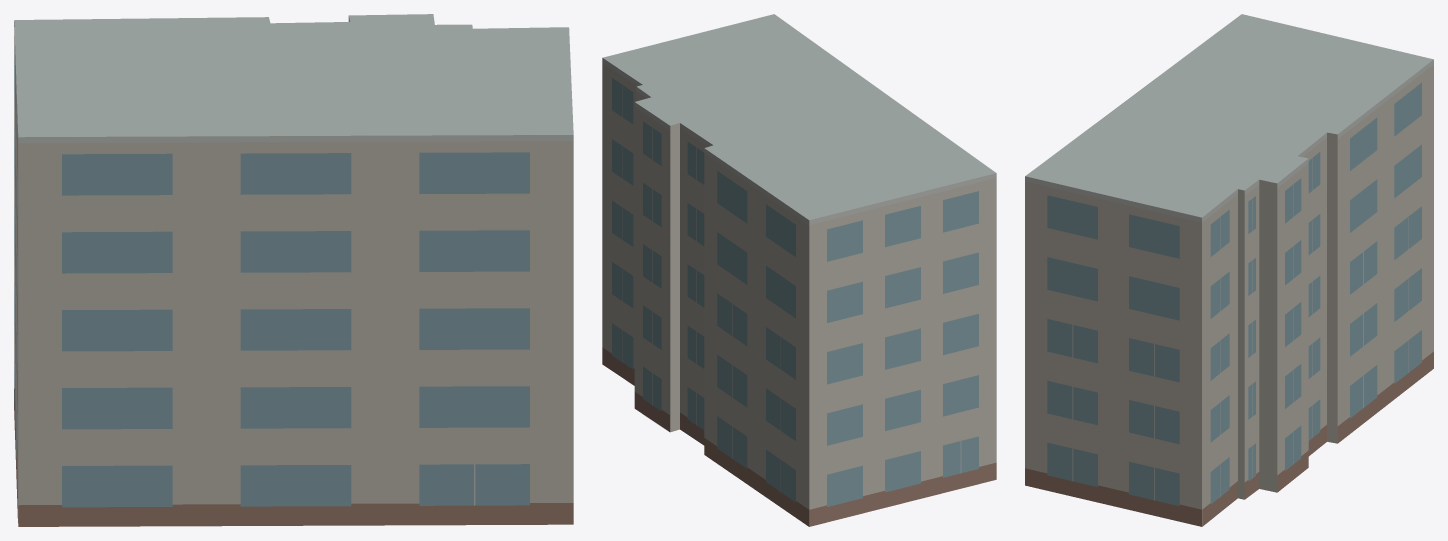
The model's file is survey-upis-32996915.glb.
3 views of the same model, side by side, from view 1: azimuth 30°, elevation 25°; view 2: azimuth 150°, elevation 25°; view 3: azimuth 270°, elevation 25° (orthographic). The views are drawn at different scales.
Parts seen in each view (by area): view 1: survey-upis-32996915.tmp; view 2: survey-upis-32996915.tmp; view 3: survey-upis-32996915.tmp.
Part boxes in pixels (x1,y1,x2,y2): survey-upis-32996915.tmp: [14, 14, 573, 526]; survey-upis-32996915.tmp: [602, 14, 996, 526]; survey-upis-32996915.tmp: [1025, 14, 1433, 526].
Bounding box in the file's own units: 21.54 × 15.25 × 18.28.
